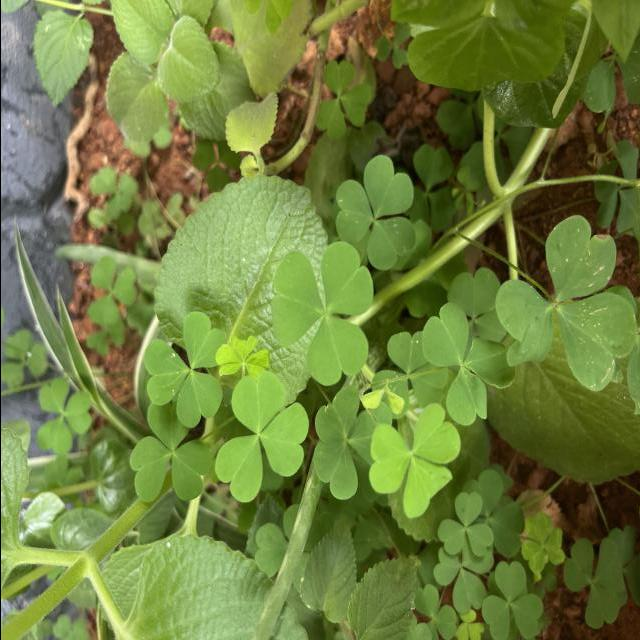Oxalis corniculata: (492, 213, 637, 393), (266, 240, 374, 384), (212, 370, 308, 504), (420, 300, 516, 427), (366, 400, 461, 520), (332, 152, 416, 270), (142, 310, 226, 428), (127, 400, 212, 502), (561, 536, 625, 630), (312, 384, 361, 500), (480, 560, 542, 640), (314, 60, 370, 140), (436, 490, 494, 558), (520, 512, 564, 574)
